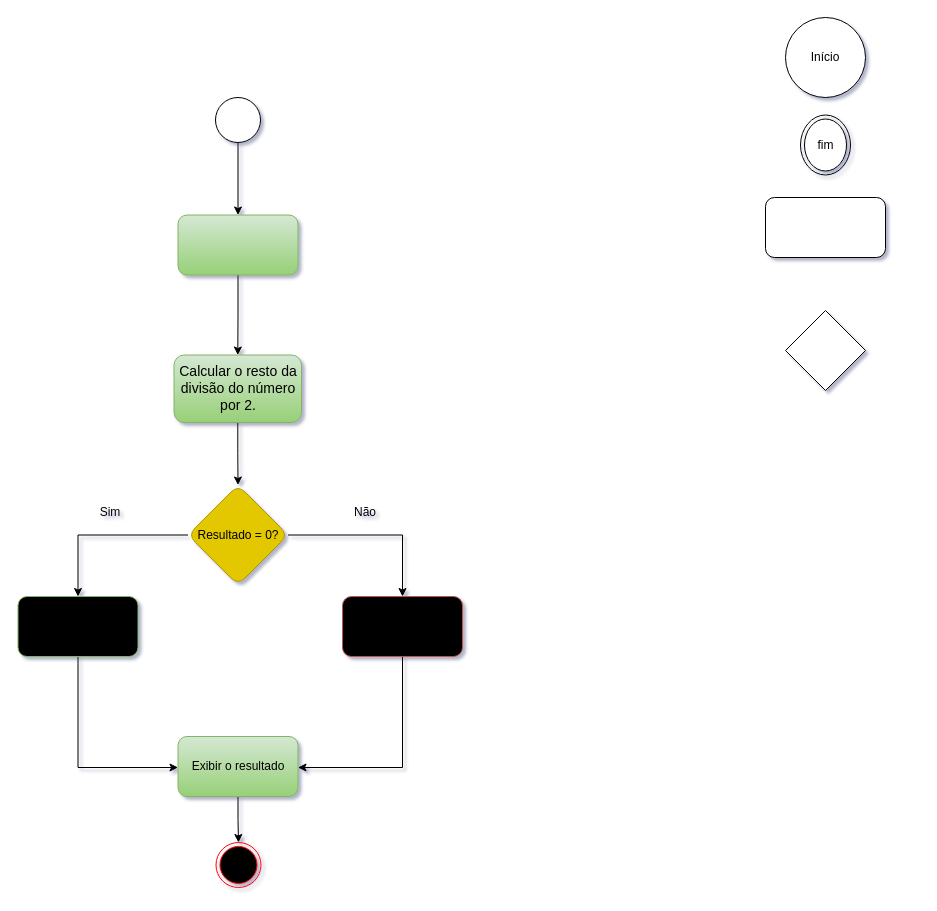
Some shapes in this 937 by 911 pixel diagram are drawn without their labels. Here are the shapes that lost their labels. From the top down, the centre of each, then its label:
the point at 237,244: Ler um número inteiro digitado pelo usuário
the point at 825,227: ações
the point at 825,350: decisões
